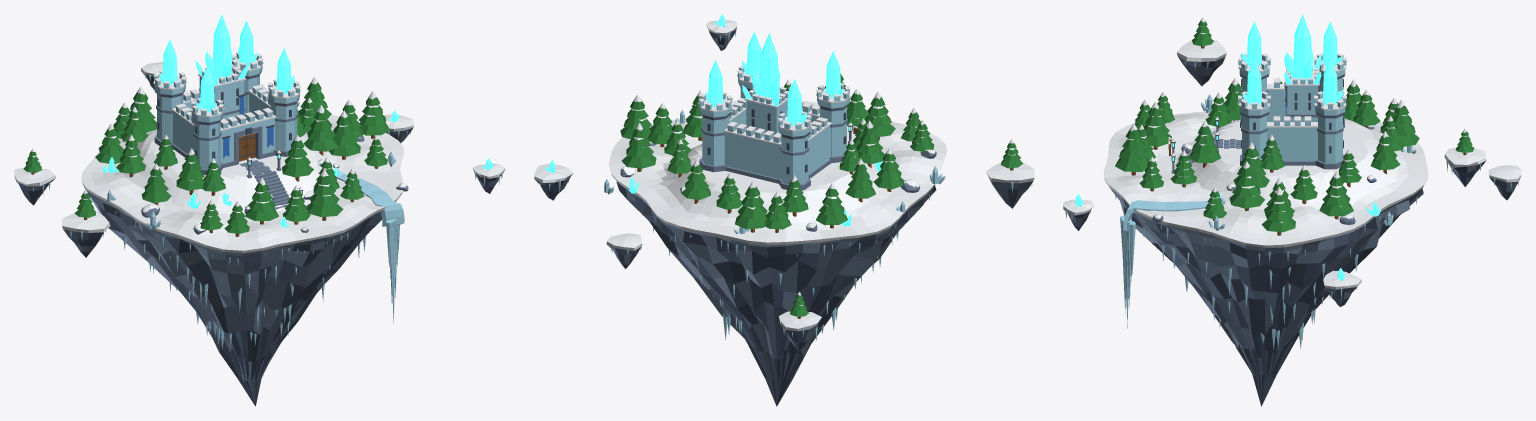
File: frost-sky-island.glb
The picture shows the model from 3 angles, left to right: view 1: azimuth 30°, elevation 25°; view 2: azimuth 150°, elevation 25°; view 3: azimuth 270°, elevation 25°; orthographic projection. The views are drawn at different scales.
Visible parts, largest first — view 1: Island_Ground, Pines, Fortress, Fortress_Spires, Waterfall_Frozen, FloatingRock_1, Icicles, FloatingRock_3, FloatingRock_4, FloatingRock_2, Crystal_Clusters; view 2: Island_Ground, Pines, Fortress, Fortress_Spires, FloatingRock_1, FloatingRock_3, FloatingRock_2, Icicles, FloatingRock_5, FloatingRock_4, Ice_Shards; view 3: Island_Ground, Pines, Fortress, Fortress_Spires, Waterfall_Frozen, FloatingRock_1, Icicles, FloatingRock_3, FloatingRock_2, FloatingRock_5, FloatingRock_4, Ice_Shards.
Part boxes in pixels (x1,y1,x2,y2): Island_Ground: (81,114,403,406); Pines: (95,77,389,236); Fortress: (153,52,300,209); Fortress_Spires: (159,14,294,112); Waterfall_Frozen: (336,170,404,322); FloatingRock_1: (62,189,110,257); Icicles: (90,196,366,349); FloatingRock_3: (14,148,55,205); FloatingRock_4: (473,158,505,193); FloatingRock_2: (383,110,414,143); Crystal_Clusters: (102,157,341,227); Island_Ground: (609,101,946,406); Pines: (620,73,934,232); Fortress: (698,65,850,190); Fortress_Spires: (705,31,843,125); FloatingRock_1: (986,139,1034,208); FloatingRock_3: (779,291,821,350); FloatingRock_2: (534,160,573,200); Icicles: (633,194,929,339); FloatingRock_5: (606,233,642,268); FloatingRock_4: (706,14,737,50); Ice_Shards: (604,110,945,233); Island_Ground: (1103,111,1428,406); Pines: (1115,77,1419,235); Fortress: (1178,53,1346,169); Fortress_Spires: (1241,14,1343,105); Waterfall_Frozen: (1120,197,1225,328); FloatingRock_1: (1177,17,1226,86); Icicles: (1115,195,1417,350); FloatingRock_3: (1444,128,1486,186); FloatingRock_2: (1323,268,1361,306); FloatingRock_5: (1488,165,1521,200); FloatingRock_4: (1063,194,1094,230); Ice_Shards: (1201,94,1416,230).
Bounding box in the file's own units: 141 × 124 × 133.
